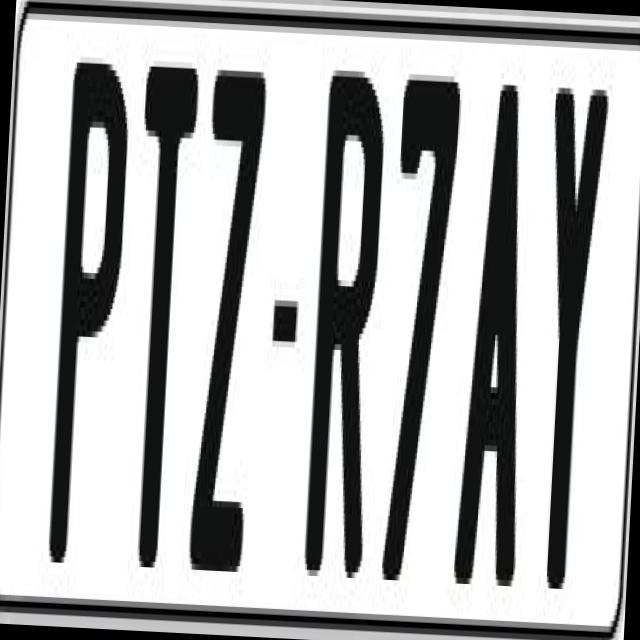7: (378, 68, 463, 600)
A: (447, 84, 539, 622)
P: (46, 56, 135, 572)
R: (301, 59, 393, 568)
T: (121, 49, 206, 552)
Y: (529, 71, 610, 578)
Z: (184, 52, 274, 590)
